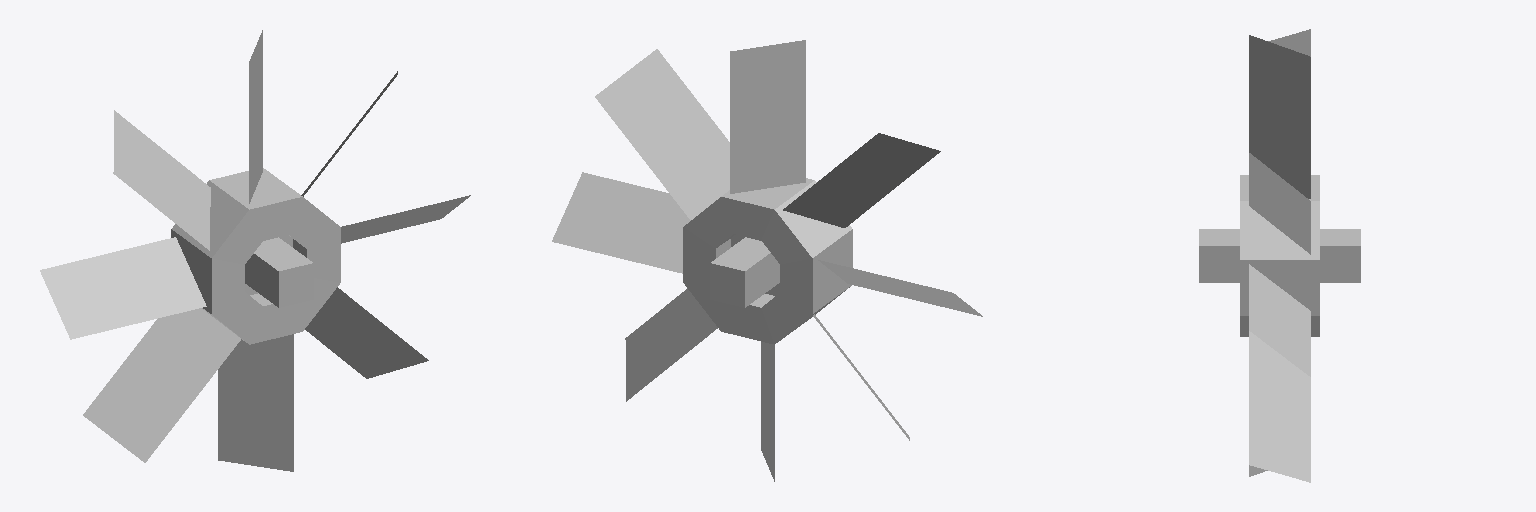
File: turbine_stage.obj
3 renders of one model, left to right at view 1: azimuth 30°, elevation 25°; view 2: azimuth 150°, elevation 25°; view 3: azimuth 270°, elevation 25°, orthographic.
Visible parts, largest first — view 1: rim, blade_8, blade_4, blade_1, blade_7, blade_5, shaft, blade_3, blade_2; view 2: rim, blade_6, blade_3, blade_2, blade_7, blade_5, shaft, blade_4, blade_1; view 3: blade_3, blade_5, rim, shaft, blade_2, blade_6, blade_7.
Boxes of the visible parts, <box> form: rim: <box>171,168,340,344</box>; blade_8: <box>83,308,240,462</box>; blade_4: <box>40,237,206,339</box>; blade_1: <box>218,334,293,471</box>; blade_7: <box>113,110,210,250</box>; blade_5: <box>305,287,428,378</box>; shaft: <box>245,237,313,307</box>; blade_3: <box>249,30,262,203</box>; blade_2: <box>341,195,470,243</box>; rim: <box>683,178,852,344</box>; blade_6: <box>595,49,729,219</box>; blade_3: <box>730,40,805,193</box>; blade_2: <box>552,172,690,273</box>; blade_7: <box>783,133,940,227</box>; blade_5: <box>625,288,717,401</box>; shaft: <box>710,237,779,307</box>; blade_4: <box>818,260,982,316</box>; blade_1: <box>761,342,774,481</box>; blade_3: <box>1249,35,1310,198</box>; blade_5: <box>1249,331,1310,482</box>; rim: <box>1240,175,1319,336</box>; shaft: <box>1199,229,1360,282</box>; blade_2: <box>1249,264,1310,376</box>; blade_6: <box>1249,153,1310,254</box>; blade_7: <box>1268,29,1310,56</box>.
Size of the model in its own units: 2.88 by 2.88 by 1.